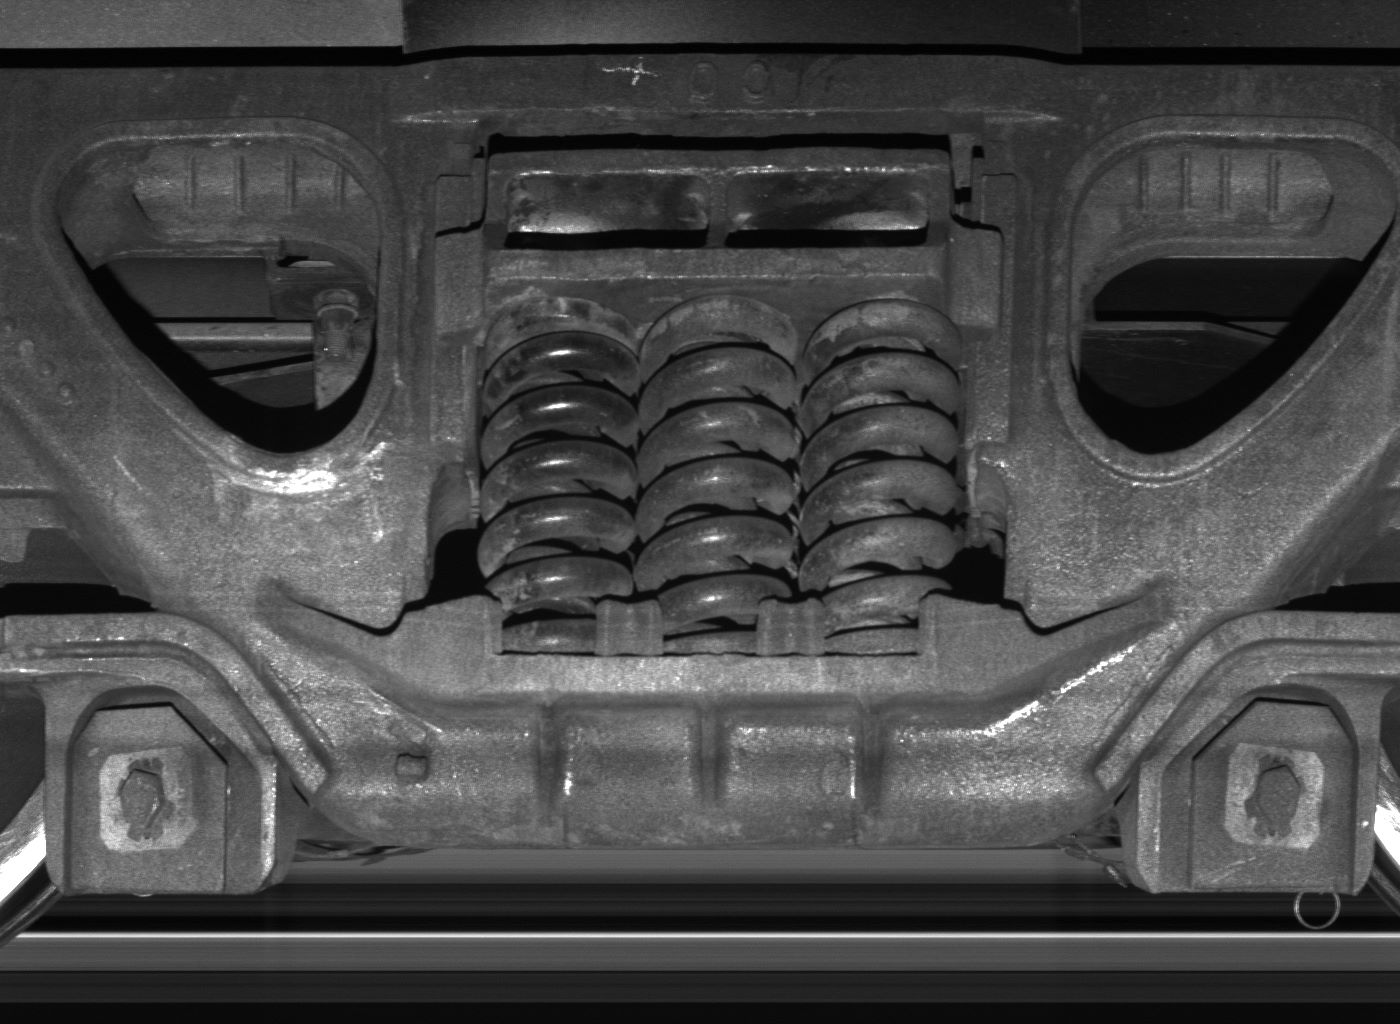normal: (1138, 682, 1378, 892), (43, 684, 276, 892)
